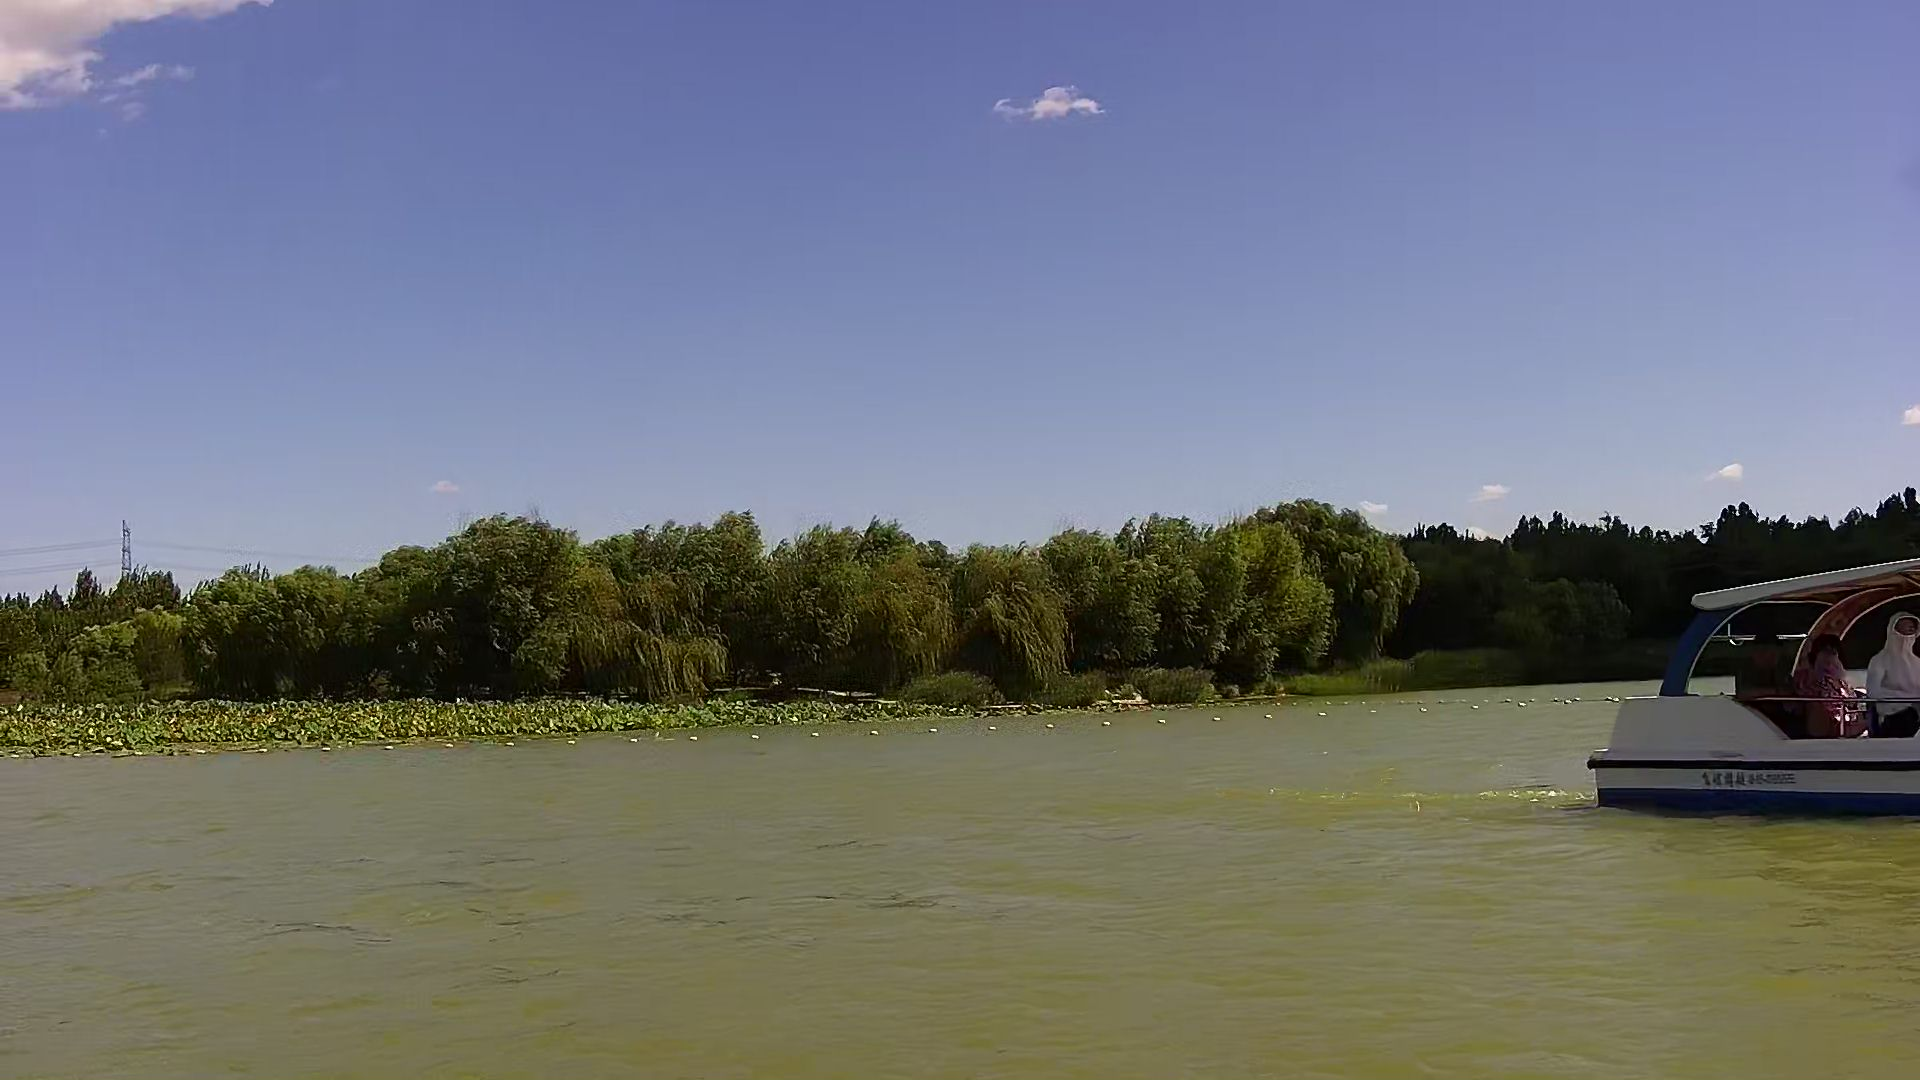boat: (1573, 530, 1920, 812)
